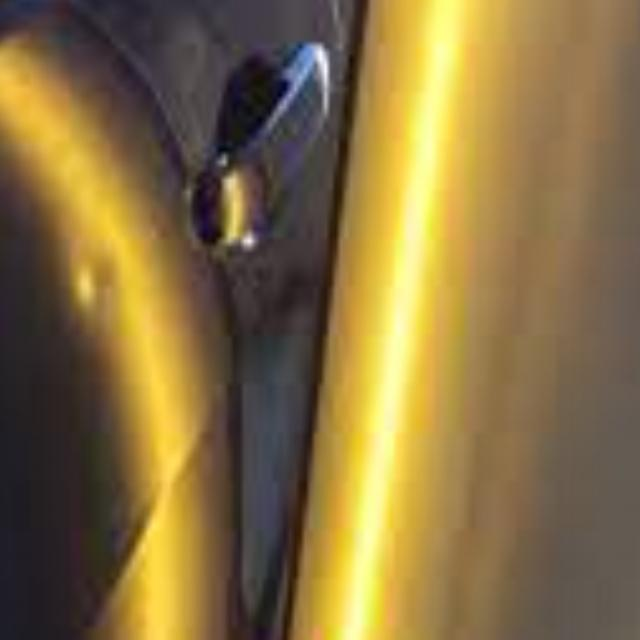dents: (68, 230, 153, 354)
